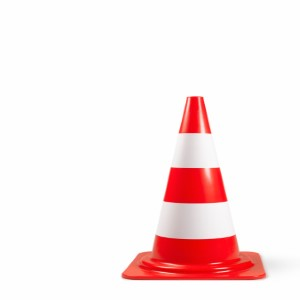traffic cone: (122, 96, 266, 280)
